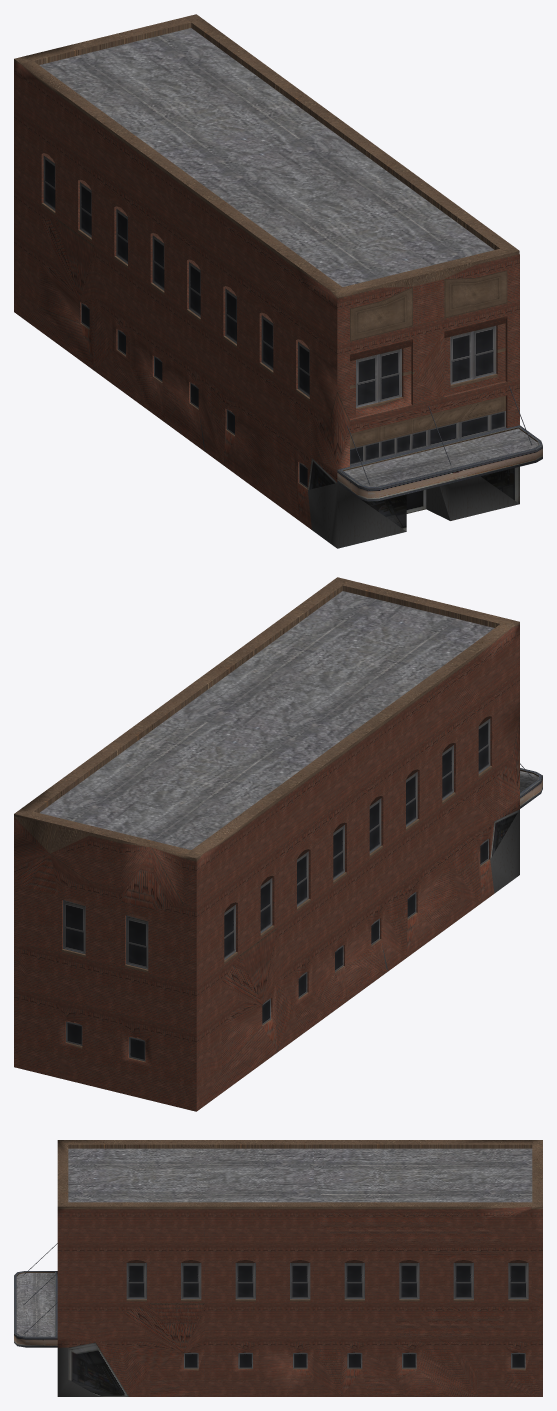
Rendered from oldamericanbrick_p6.fbx.
3 renders of one model, top to bottom at view 1: azimuth 30°, elevation 25°; view 2: azimuth 150°, elevation 25°; view 3: azimuth 270°, elevation 25°, orthographic. The views are drawn at different scales.
Parts seen in each view (by area): view 1: finishaobakeblendafterunit__1_; view 2: finishaobakeblendafterunit__1_; view 3: finishaobakeblendafterunit__1_.
Part boxes in pixels (<box>): finishaobakeblendafterunit__1_: <box>14,14,542,548</box>; finishaobakeblendafterunit__1_: <box>14,577,542,1111</box>; finishaobakeblendafterunit__1_: <box>14,1140,542,1396</box>.
Size of the model in its own units: 2611 by 3463 by 8729.
1 material, 1 textured.
